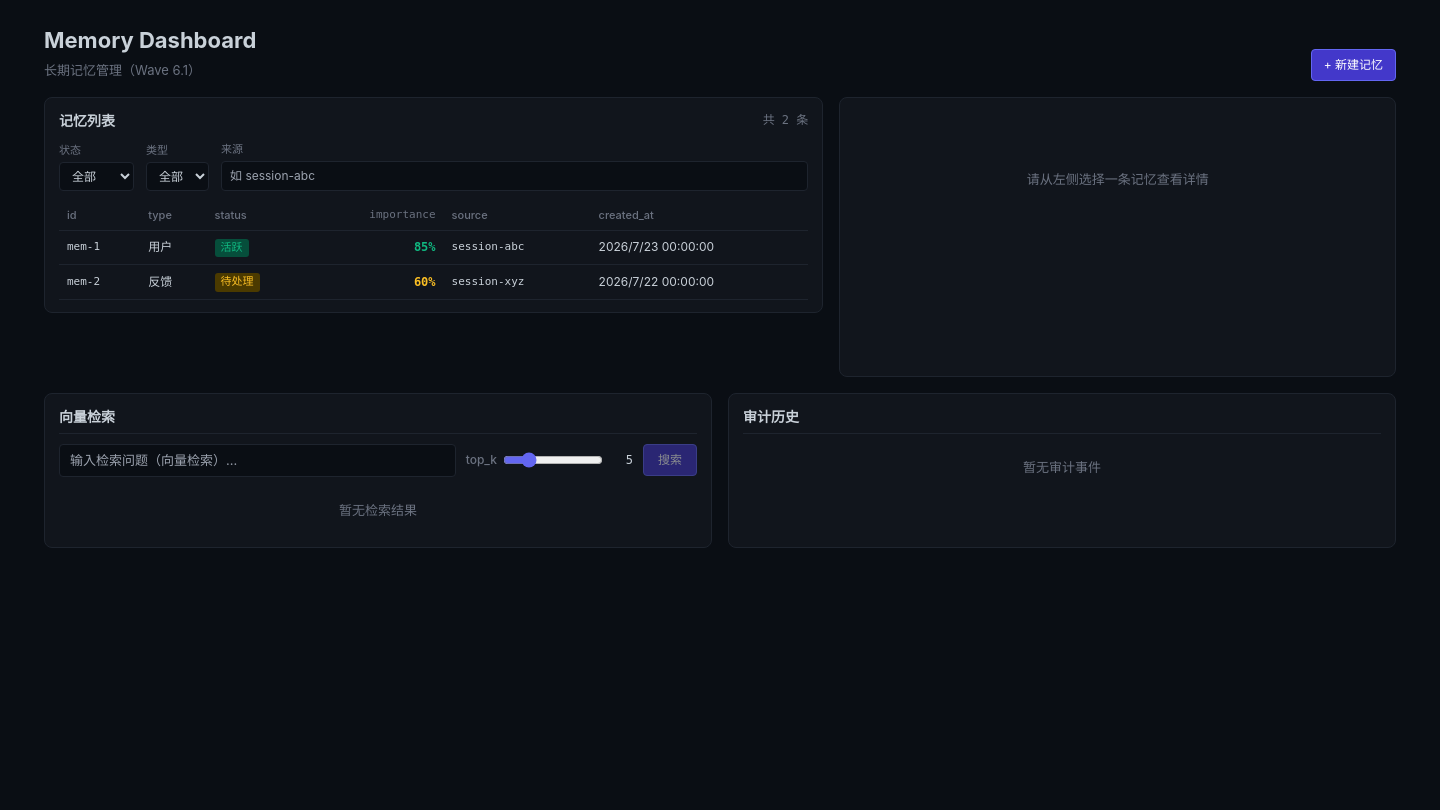
Test case: MemoryDashboard view › 有数据：list 渲染 + select 行加载 detail + audit + 搜索触发 search API
The image size is (1440, 810).
Type "用户偏好" into the field with test id "memory-search-input" at (257, 460), box x1=59 y1=444 x2=456 y2=477
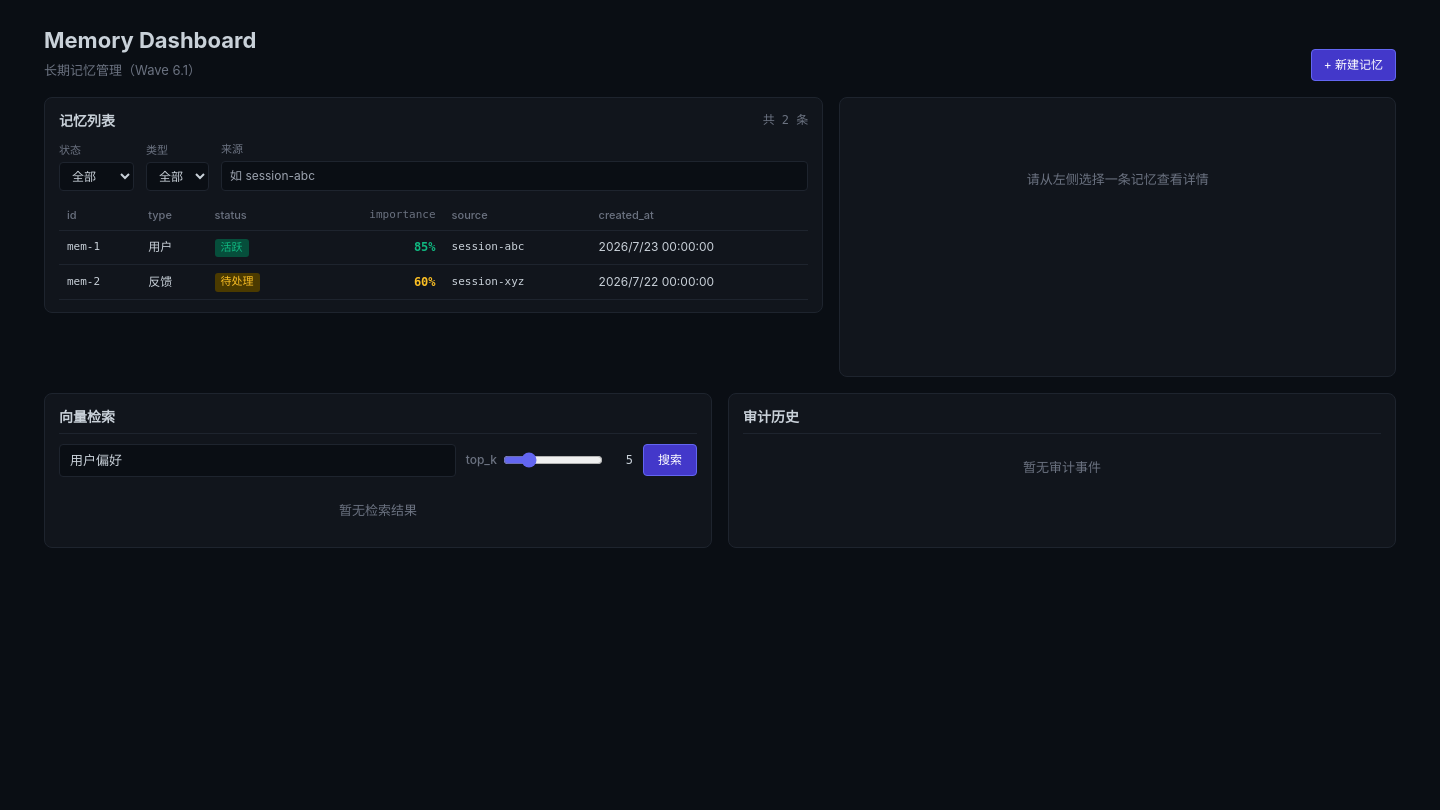
直接在 search 子组件上触发 form submit
Submit the form with test id "memory-search-form", box x1=59 y1=444 x2=697 y2=477
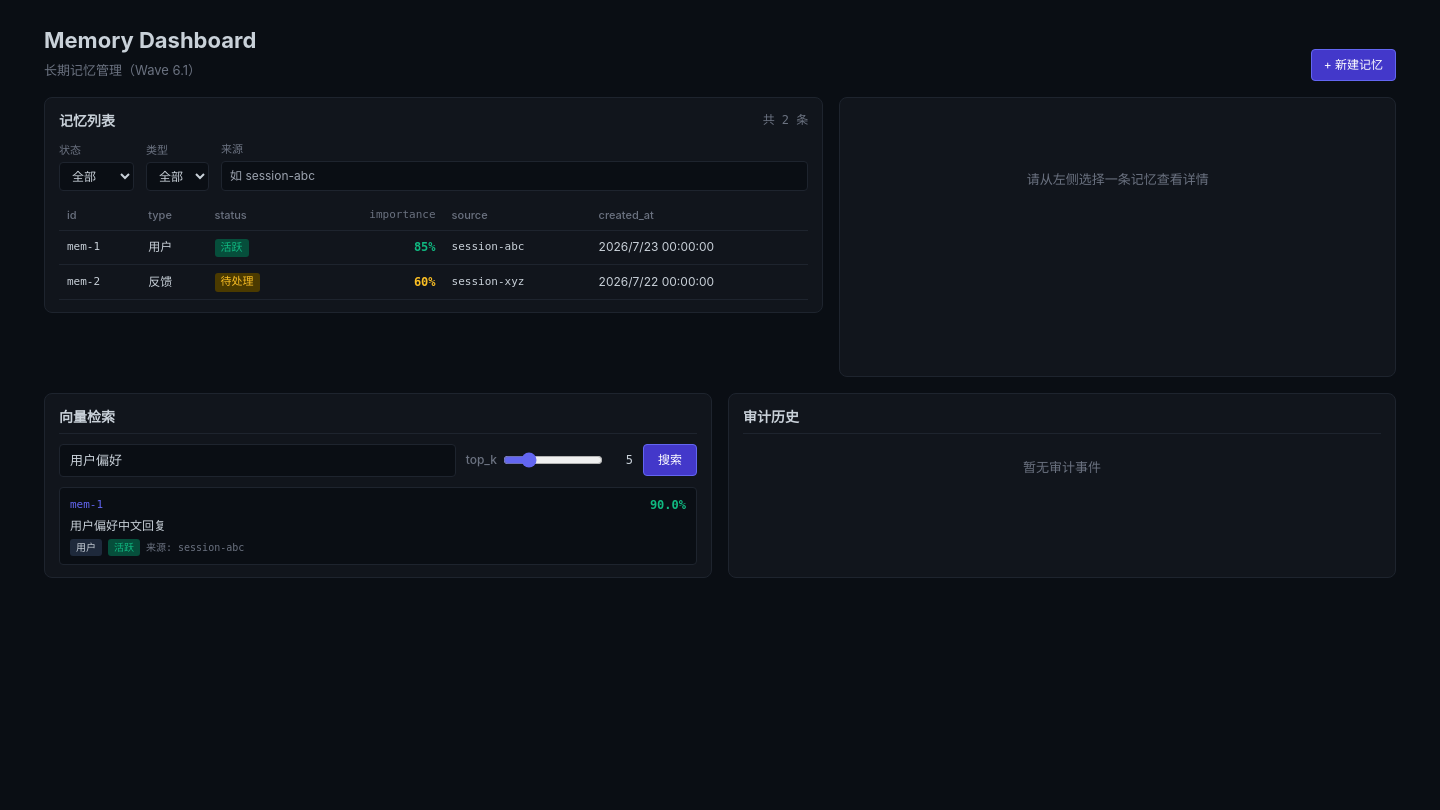
点击 list 中的 mem-1 加载 detail + audit
Click the row with test id "memory-row-mem-1" at (434, 247), box x1=59 y1=230 x2=808 y2=264
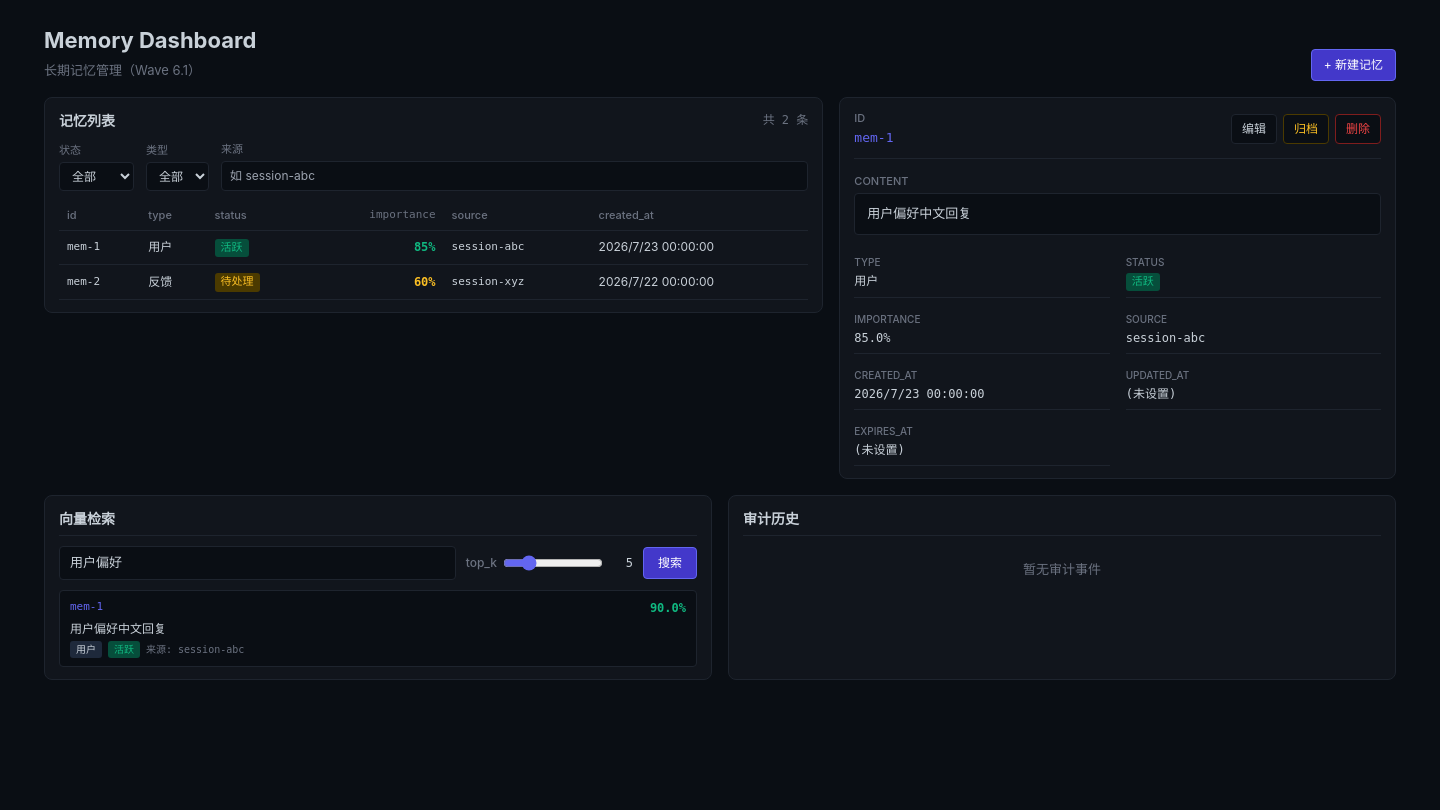
Result: the text with test id "memory-detail-id" reads "mem-1" at x1=854 y1=130 x2=893 y2=145
